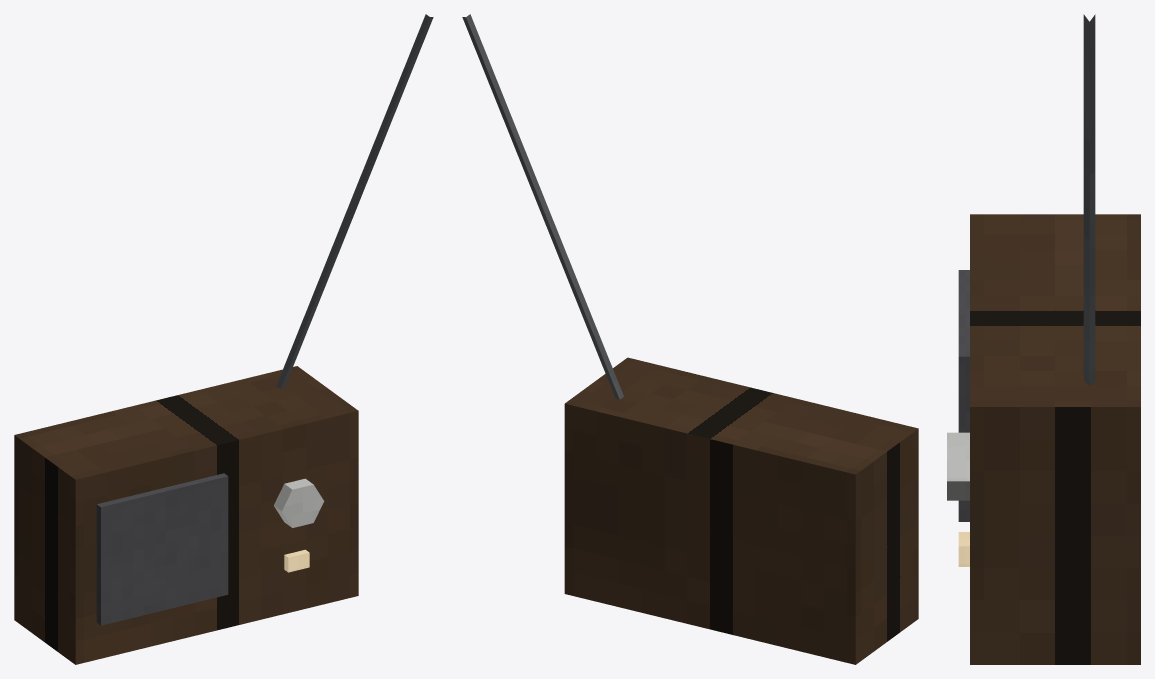
File: int_radio.glb
3 renders of one model, left to right at view 1: azimuth 30°, elevation 25°; view 2: azimuth 150°, elevation 25°; view 3: azimuth 270°, elevation 25°, orthographic. The views are drawn at different scales.
Parts seen in each view (by area): view 1: detail; view 2: detail; view 3: detail.
Boxes of the visible parts, x1,y1,x2,y2 form: detail: [14, 14, 433, 664]; detail: [462, 14, 918, 664]; detail: [947, 14, 1140, 664].
Size of the model in its own units: 0.5667 by 0.7044 by 0.17.
Materials: 5 (5 with a texture image).
